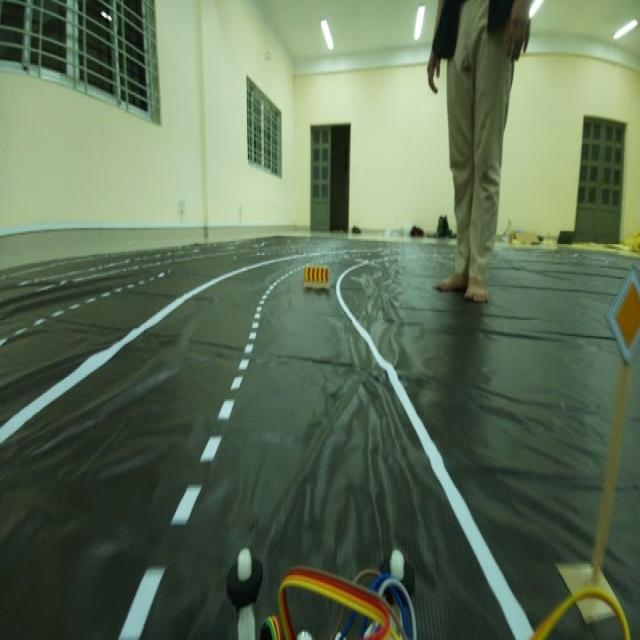priority: (605, 269, 640, 358)
roadblock: (298, 253, 332, 300)
